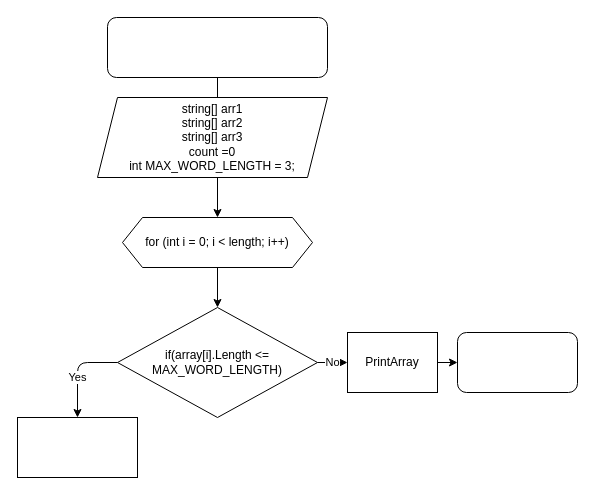
Image size: 595x495. Some labels were removed from this diagram. Each missing label, with the centre of its shape:
"GetShortWordsArray" goes at point (217, 47).
"result[count] = array[i]; count++;" goes at point (77, 447).
